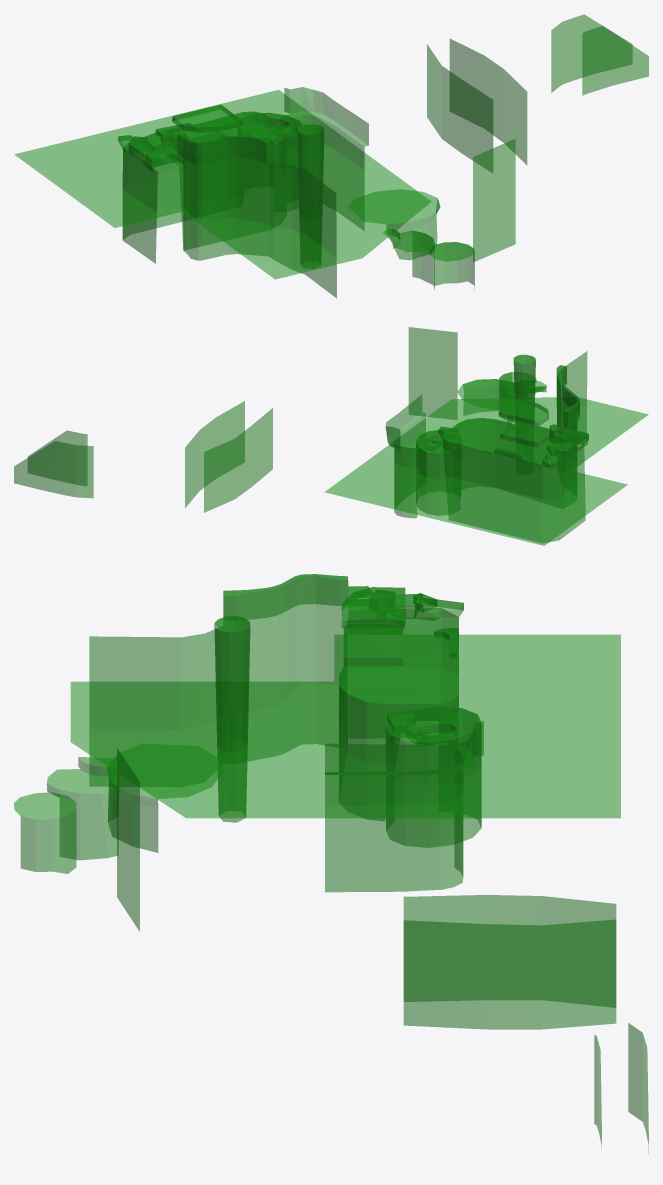
File: stg151_B_cam.obj
The picture shows the model from 3 angles, top to bottom: view 1: azimuth 30°, elevation 25°; view 2: azimuth 150°, elevation 25°; view 3: azimuth 270°, elevation 25°; orthographic projection. The views are drawn at different scales.
Bounding box in the file's own units: 223 × 53.73 × 137.
